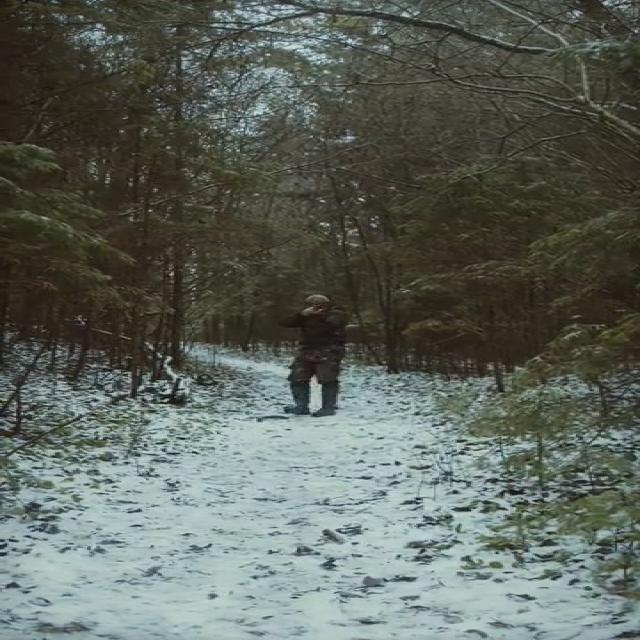Gun_Holder: (296, 302, 346, 316)
Person: (286, 294, 357, 411)
